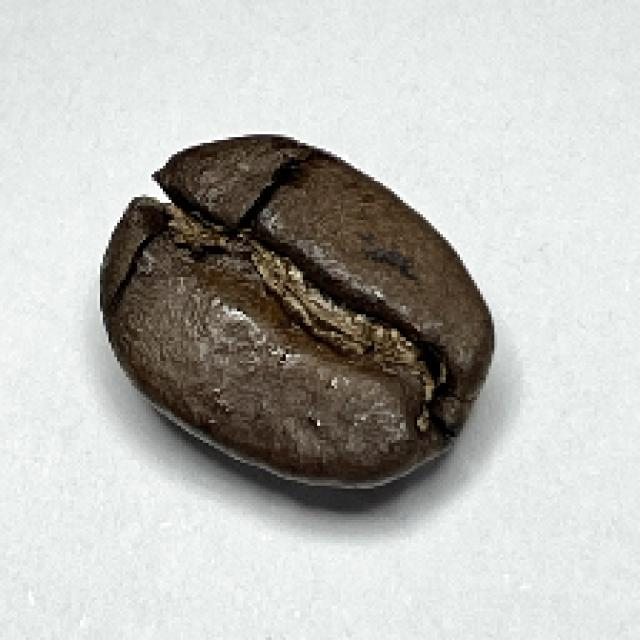bean: (94, 128, 501, 488)
